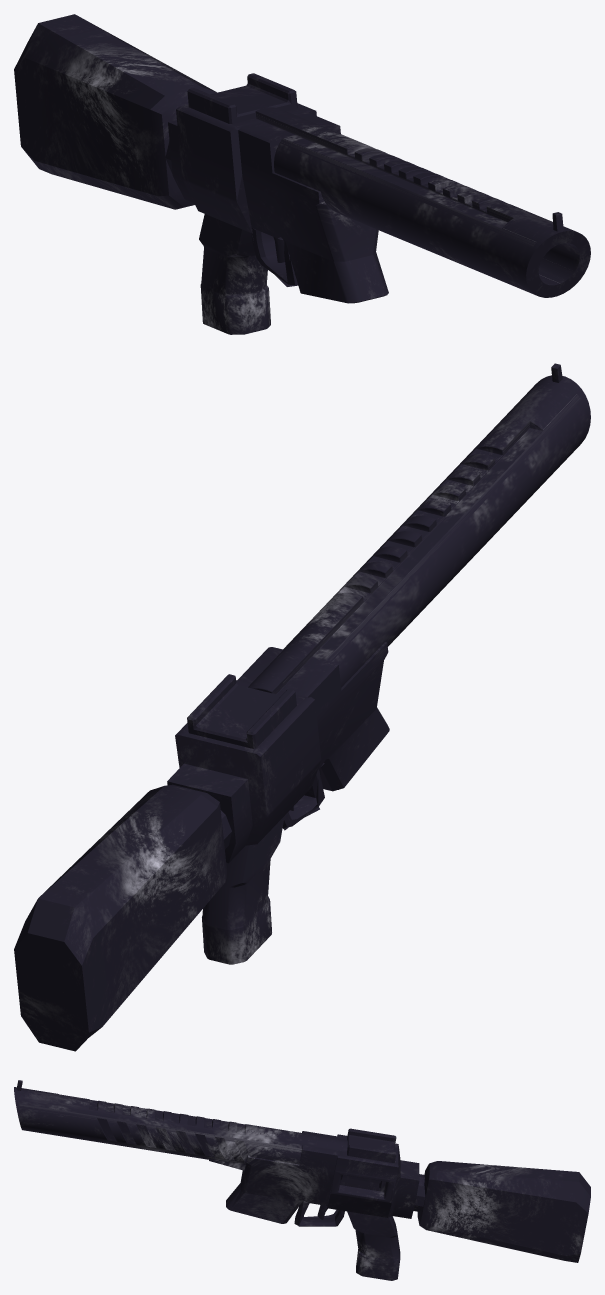
Rendered from gun.fbx.
The picture shows the model from 3 angles, top to bottom: view 1: azimuth 30°, elevation 25°; view 2: azimuth 150°, elevation 25°; view 3: azimuth 270°, elevation 25°; orthographic projection. The views are drawn at different scales.
Parts seen in each view (by area): view 1: RifleTarget; view 2: RifleTarget; view 3: RifleTarget.
Boxes of the visible parts, x1,y1,x2,y2 form: RifleTarget: (14,14,590,334); RifleTarget: (14,363,590,1051); RifleTarget: (14,1080,590,1280).
Size of the model in its own units: 0.2742 by 2.86 by 1.07.
